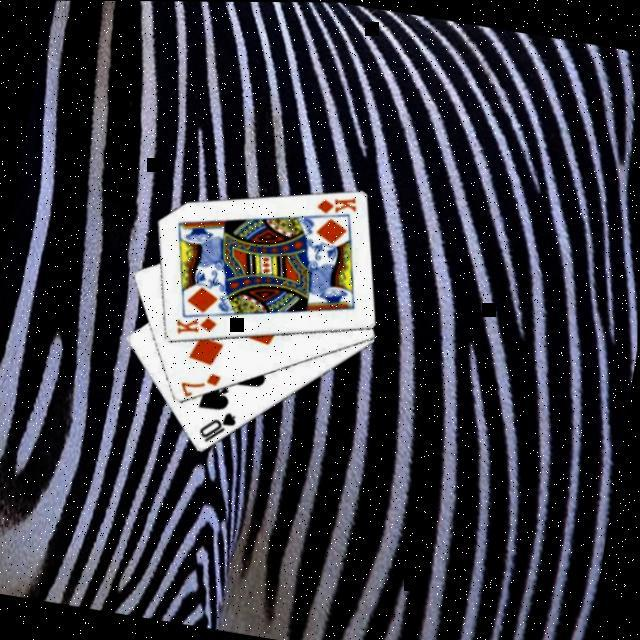10S: (194, 403, 239, 447)
7D: (175, 362, 223, 400)
KD: (170, 306, 220, 339), (310, 186, 360, 219)
